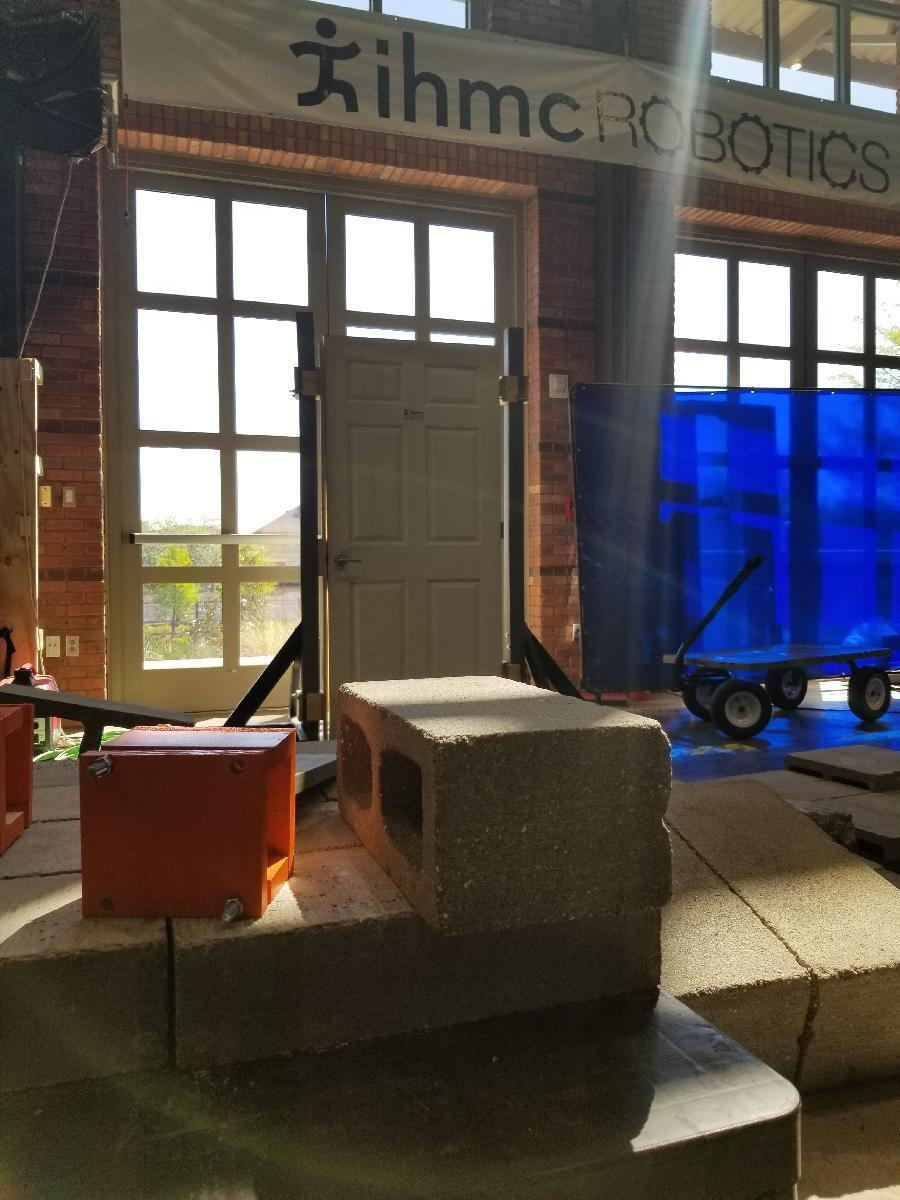door: (320, 338, 503, 691)
handle: (332, 550, 366, 574)
